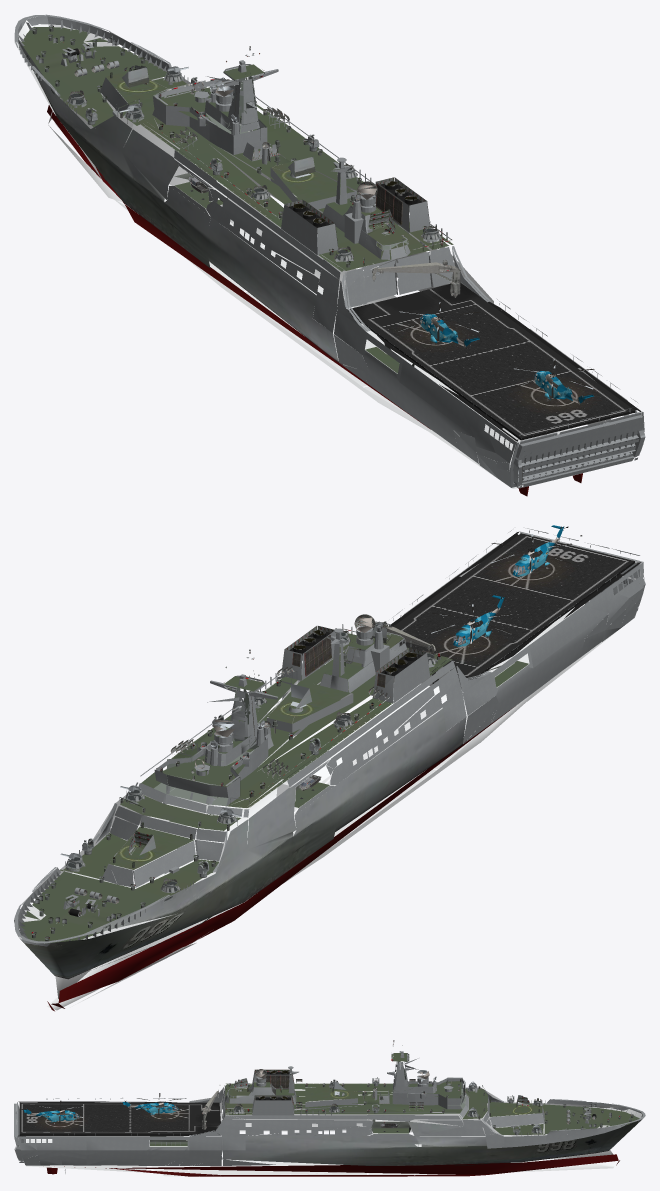
The model's file is type_071.glb.
3 renders of one model, top to bottom at view 1: azimuth 30°, elevation 25°; view 2: azimuth 150°, elevation 25°; view 3: azimuth 270°, elevation 25°, orthographic. The views are drawn at different scales.
Parts seen in each view (by area): view 1: Material2.006, Material2.002, Material3.004, Material2, Material3, Material2.009, Material3.007, Material3.010; view 2: Material2.006, Material2.002, Material3.004, Material2, Material3, Material2.009, Material3.007; view 3: Material2.006, Material2.002, Material2, Material3.004, Material3, Material2.009, Material3.007, Material3.008.
Boxes of the visible parts, box(x1,y1,x2,y2) form: Material2.006: box(18, 27, 641, 496); Material2.002: box(14, 14, 645, 488); Material3.004: box(347, 283, 634, 437); Material2: box(14, 14, 642, 488); Material3: box(32, 25, 603, 481); Material2.009: box(420, 313, 593, 404); Material3.007: box(67, 70, 441, 261); Material3.010: box(372, 259, 460, 297); Material2.006: box(19, 532, 641, 1011); Material2.002: box(14, 528, 645, 943); Material3.004: box(393, 533, 634, 687); Material2: box(18, 526, 640, 1010); Material3: box(31, 535, 636, 939); Material2.009: box(453, 525, 563, 646); Material3.007: box(65, 632, 437, 893); Material2.006: box(18, 1053, 642, 1176); Material2.002: box(14, 1043, 645, 1173); Material2: box(16, 1070, 645, 1176); Material3.004: box(19, 1102, 219, 1134); Material3: box(15, 1040, 633, 1157); Material2.009: box(23, 1102, 178, 1122); Material3.007: box(233, 1082, 543, 1134); Material3.008: box(372, 1077, 520, 1135).
Bounding box in the file's own units: 29.47 × 46.48 × 210.
13 materials, 13 textured.
